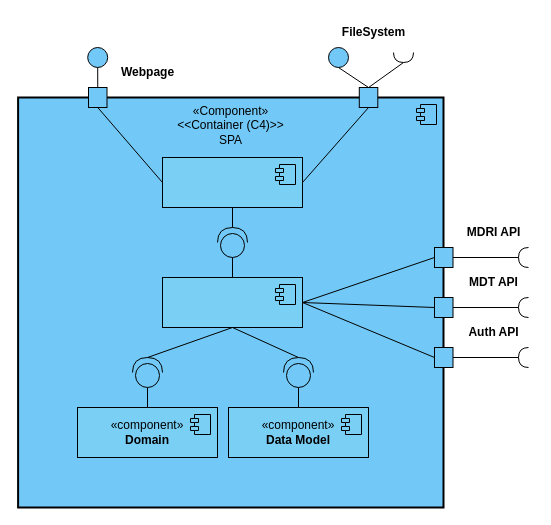
This 551x525 diagram has some shape labels left out. Here are the shapes that lost their labels. From the top down, the centre of each, then its label:
At point 232,182: "«component» Component".
At point 232,302: "«component» Service Info".
